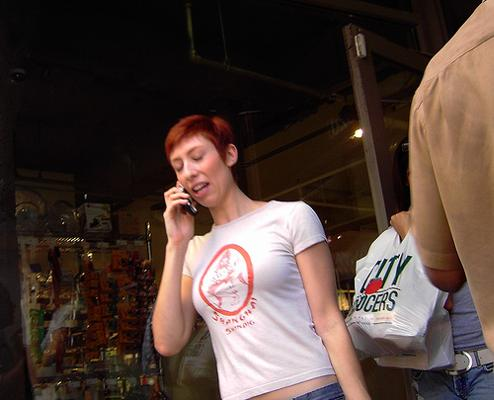person: (150, 114, 377, 400)
